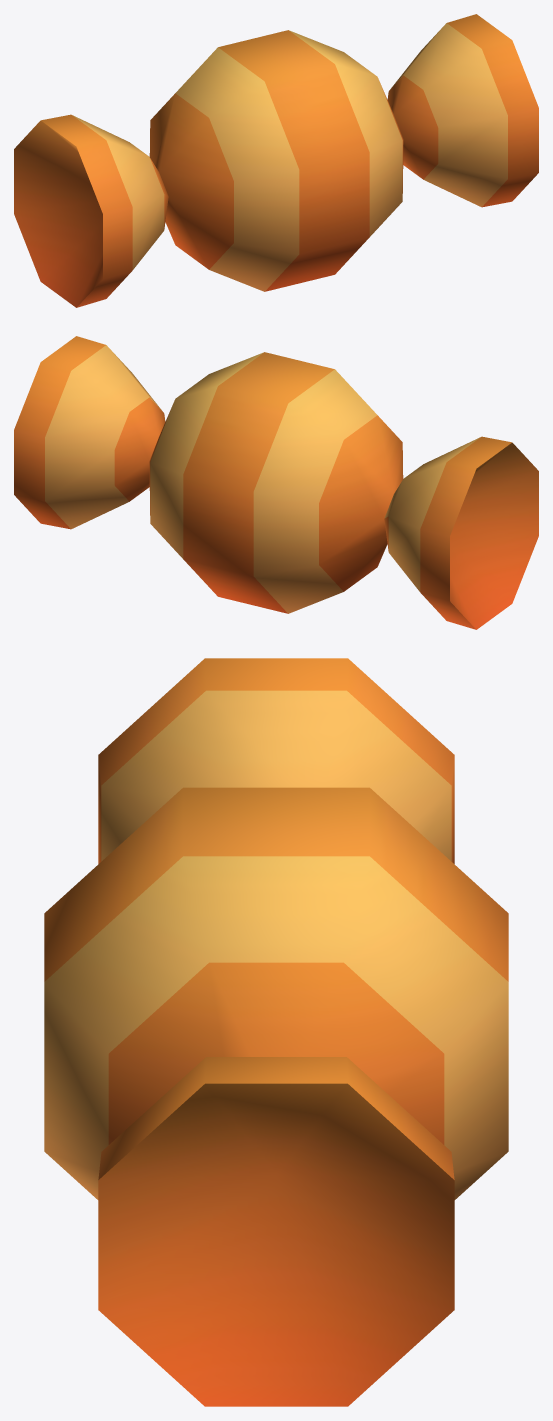
File: candy_orange_b.glb
The picture shows the model from 3 angles, top to bottom: view 1: azimuth 30°, elevation 25°; view 2: azimuth 150°, elevation 25°; view 3: azimuth 270°, elevation 25°; orthographic projection. The views are drawn at different scales.
Visible parts, largest first — view 1: candy_orange_B; view 2: candy_orange_B; view 3: candy_orange_B.
Part boxes in pixels (box(x1,y1,x2,y2)): candy_orange_B: box(14, 14, 538, 307); candy_orange_B: box(14, 336, 538, 629); candy_orange_B: box(44, 658, 508, 1406).
Bounding box in the file's own units: 0.65 × 0.3 × 0.3.
Materials: 1 (1 with a texture image).
